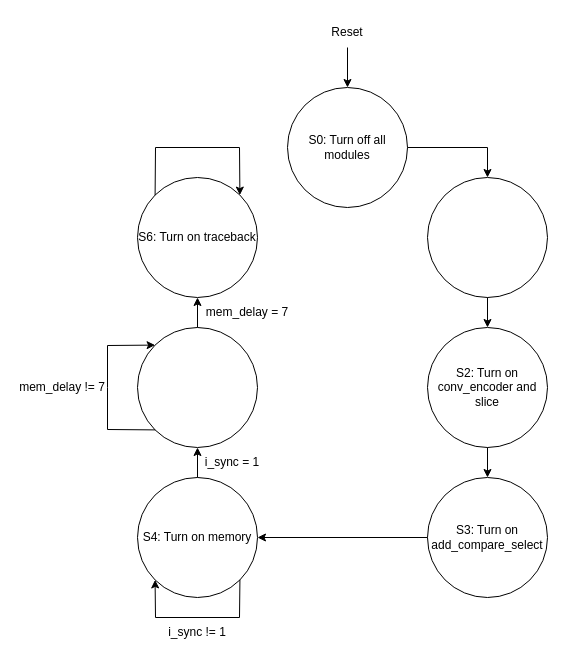
This 565x664 diagram has some shape labels left out. The shapes that lost their labels are listed below. From the top down, each one's box as (x1, y1, x2, y2) in pixels, then its label:
(426, 176, 548, 298): S1: Turn on conv_encoder and slice
(136, 326, 258, 448): S5: Turn off add_compare_select
